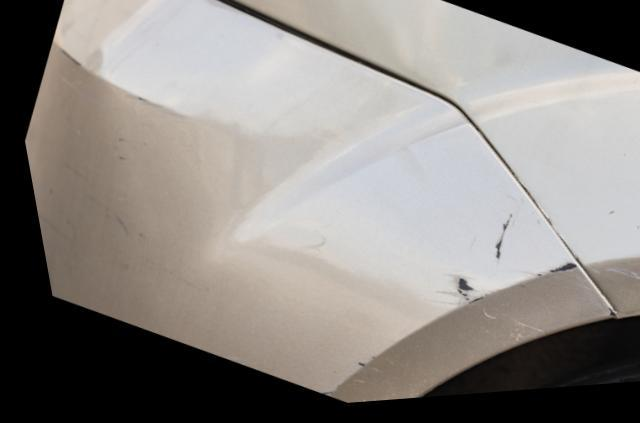scratch: (416, 211, 564, 331), (302, 355, 380, 401), (577, 269, 640, 299)
